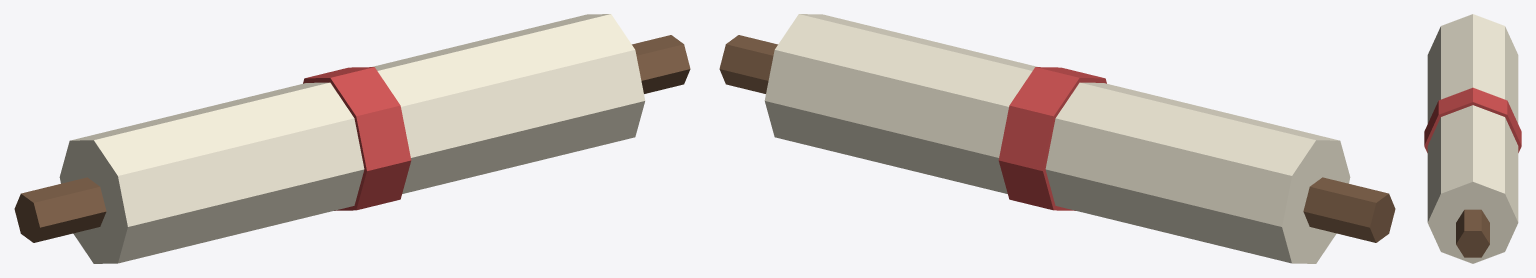
File: SM_Scroll.glb
3 views of the same model, side by side, from view 1: azimuth 30°, elevation 25°; view 2: azimuth 150°, elevation 25°; view 3: azimuth 270°, elevation 25° (orthographic). The views are drawn at different scales.
Visible parts, largest first — view 1: SM_Scroll; view 2: SM_Scroll; view 3: SM_Scroll.
Part boxes in pixels (x1,y1,x2,y2): SM_Scroll: (14, 14, 690, 263); SM_Scroll: (719, 14, 1395, 263); SM_Scroll: (1424, 14, 1521, 263).
Size of the model in its own units: 0.44 by 0.086 by 0.086.
